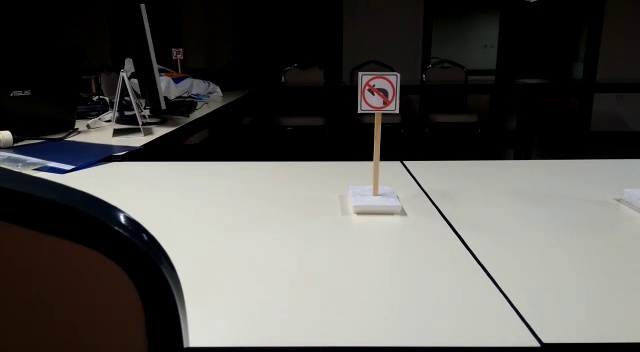sola_donulmez: (355, 69, 403, 115)
